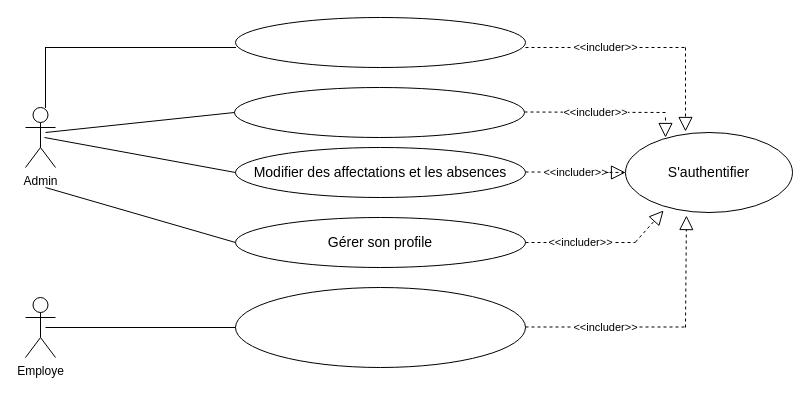
The diagram is 810 pixels wide and 396 high, and some of its shapes have lost their labels. Each missing label, with the centre of its shape:
consulter les renseignements: (x=380, y=42)
consulter ses information personnels: (x=380, y=327)
Insertion des affectations et les abcences: (x=379, y=112)
